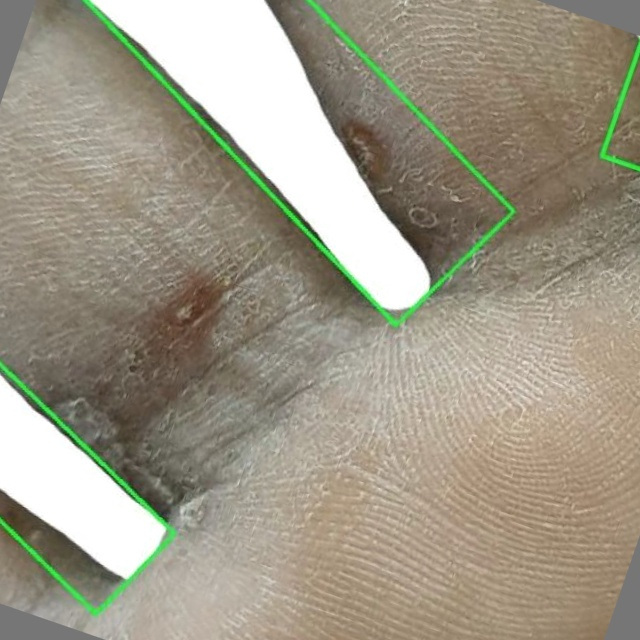Scabies: (111, 0, 518, 325), (0, 340, 180, 615)
